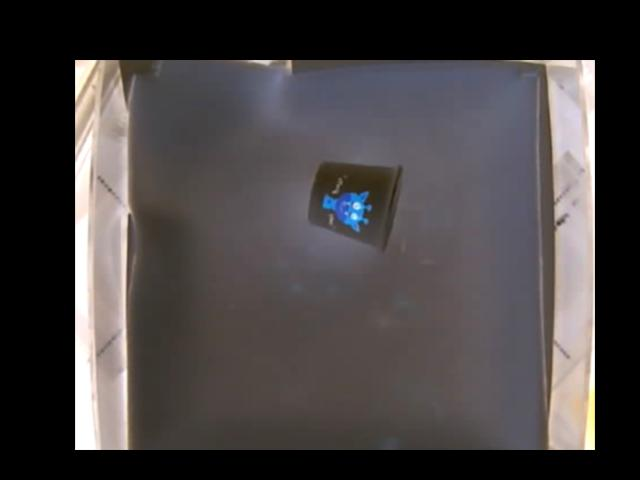Cup: (309, 158, 405, 250)
